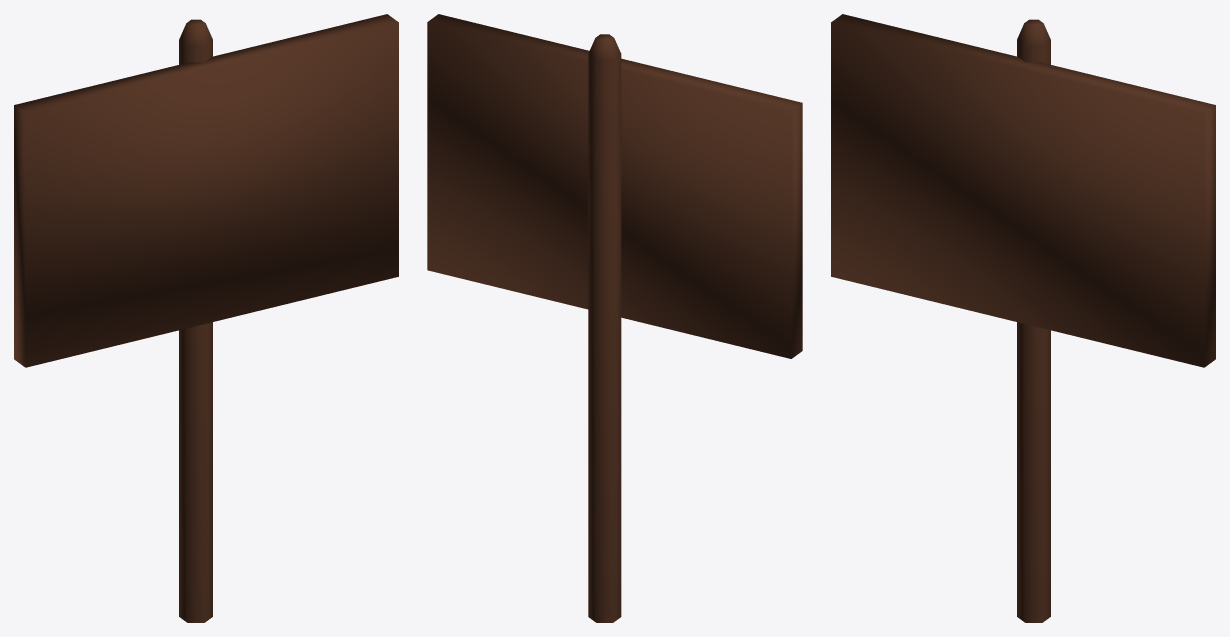
Rendered from Placa.fbx.
3 renders of one model, left to right at view 1: azimuth 30°, elevation 25°; view 2: azimuth 150°, elevation 25°; view 3: azimuth 330°, elevation 25°, orthographic. The views are drawn at different scales.
Parts seen in each view (by area): view 1: Placa; view 2: Placa; view 3: Placa.
Boxes of the visible parts, x1,y1,x2,y2 form: Placa: (14,14,398,622); Placa: (427,14,802,622); Placa: (831,14,1215,622).
Bounding box in the file's own units: 161 × 245 × 18.47.
